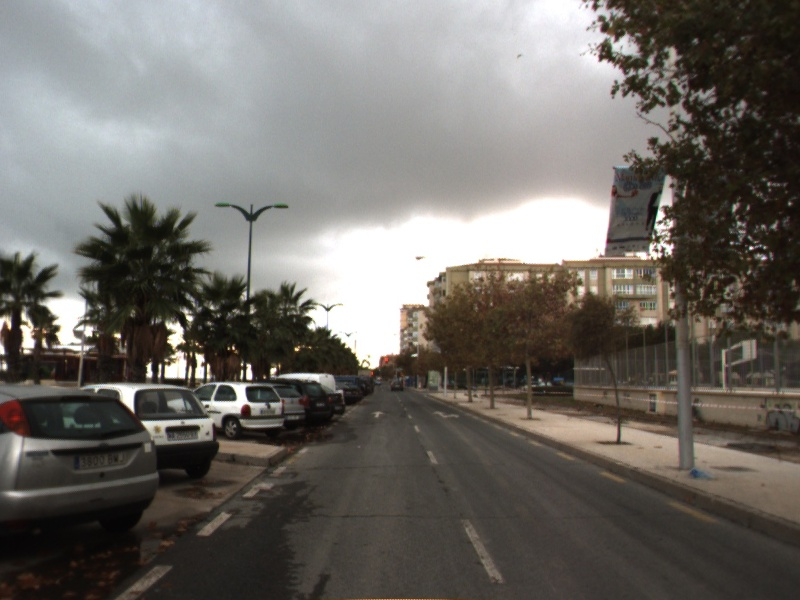STRAIGHT: (370, 409, 387, 420)
STRAIGHT_RIGHT: (431, 408, 462, 420)
